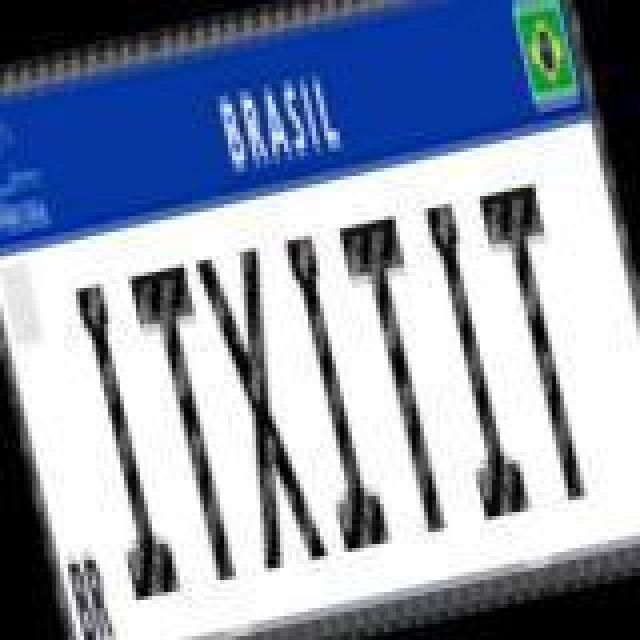I: (62, 274, 186, 606), (410, 194, 534, 526), (274, 228, 398, 556)
T: (334, 210, 466, 542), (478, 178, 610, 510), (126, 260, 258, 588)
X: (196, 242, 332, 574)
